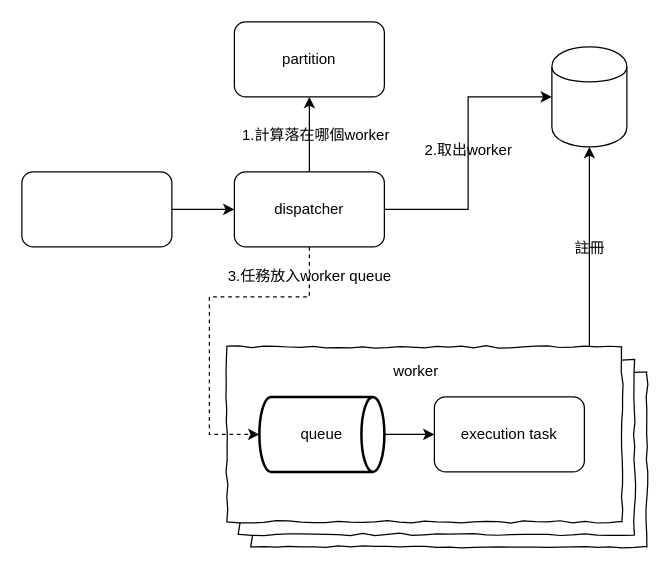
Some shapes in this 669 by 569 pixel diagram are drawn without their labels. The shapes that lost their labels are listed below. From the top down, each one's centre as x and y in pixels, then its label:
At point (589, 96): "worker pool".
At point (96, 209): "task".
